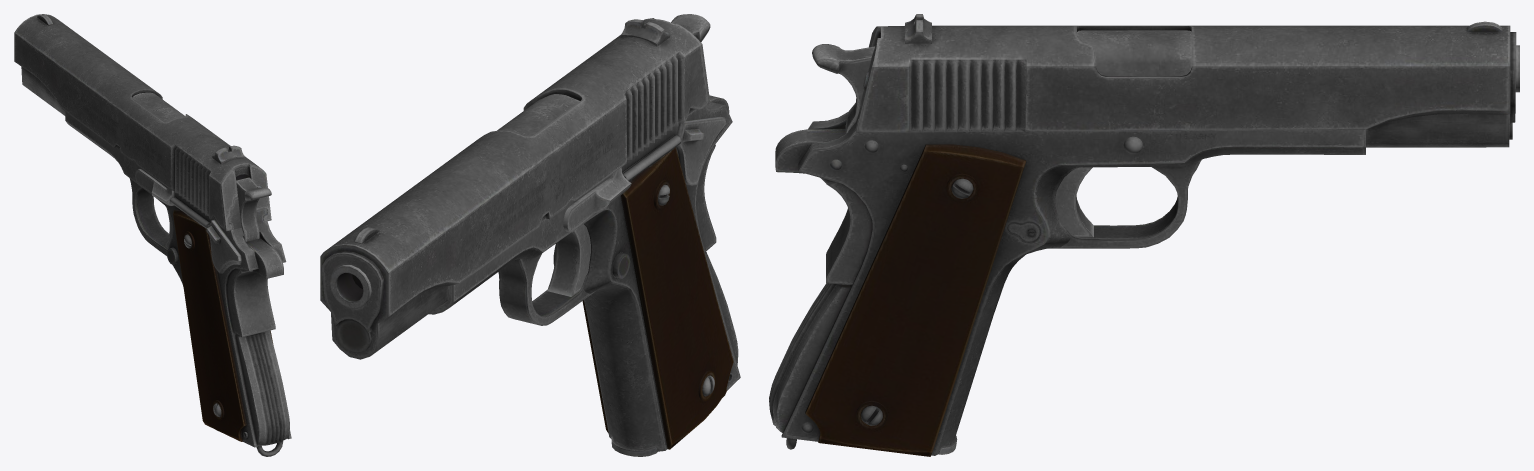
Rendered from pistol_tp.glb.
3 views of the same model, side by side, from view 1: azimuth 30°, elevation 25°; view 2: azimuth 150°, elevation 25°; view 3: azimuth 270°, elevation 25° (orthographic). The views are drawn at different scales.
Parts seen in each view (by area): view 1: Shutter_lowTris, Handle_lowTris, Receiver_lowTris, BackHandle_lowTris, SafetyHandle_lowTris, Hammer_lowTris, SwitchMode_lowTris, Barrel_lowTris, ShutterDelay_lowTris, TubePlunger_lowTris; view 2: Shutter_lowTris, Receiver_lowTris, Handle_lowTris, Barrel_lowTris, Trigger_lowTris, SwitchMode_lowTris, ShutterDelay_lowTris, SafetyHandle_lowTris, TubePlunger_lowTris, BackHandle_lowTris, Hammer_lowTris; view 3: Shutter_lowTris, Handle_lowTris, Receiver_lowTris, Barrel_lowTris, SafetyHandle_lowTris, BackHandle_lowTris, Hammer_lowTris, Trigger_lowTris.
Boxes of the visible parts, x1,y1,x2,y2 form: Shutter_lowTris: [14, 14, 271, 231]; Handle_lowTris: [173, 209, 273, 441]; Receiver_lowTris: [65, 111, 291, 447]; BackHandle_lowTris: [235, 330, 289, 456]; SafetyHandle_lowTris: [227, 238, 283, 337]; Hammer_lowTris: [236, 177, 271, 241]; SwitchMode_lowTris: [206, 220, 241, 273]; Barrel_lowTris: [132, 92, 184, 121]; ShutterDelay_lowTris: [135, 169, 174, 205]; TubePlunger_lowTris: [170, 197, 210, 228]; Shutter_lowTris: [320, 18, 710, 359]; Receiver_lowTris: [428, 102, 740, 451]; Handle_lowTris: [582, 147, 733, 449]; Barrel_lowTris: [329, 94, 579, 308]; Trigger_lowTris: [547, 224, 590, 296]; SwitchMode_lowTris: [676, 116, 726, 185]; ShutterDelay_lowTris: [563, 167, 631, 232]; SafetyHandle_lowTris: [696, 95, 729, 251]; TubePlunger_lowTris: [622, 135, 681, 180]; BackHandle_lowTris: [705, 252, 738, 365]; Hammer_lowTris: [671, 14, 710, 42]; Shutter_lowTris: [856, 14, 1516, 147]; Handle_lowTris: [805, 144, 1026, 456]; Receiver_lowTris: [781, 103, 1365, 455]; Barrel_lowTris: [1077, 30, 1519, 92]; SafetyHandle_lowTris: [775, 128, 872, 285]; BackHandle_lowTris: [769, 283, 850, 449]; Hammer_lowTris: [812, 44, 874, 133]; Trigger_lowTris: [1055, 167, 1093, 237].
Size of the model in its own units: 0.0301 by 0.1387 by 0.22.
1 material, 1 textured.
